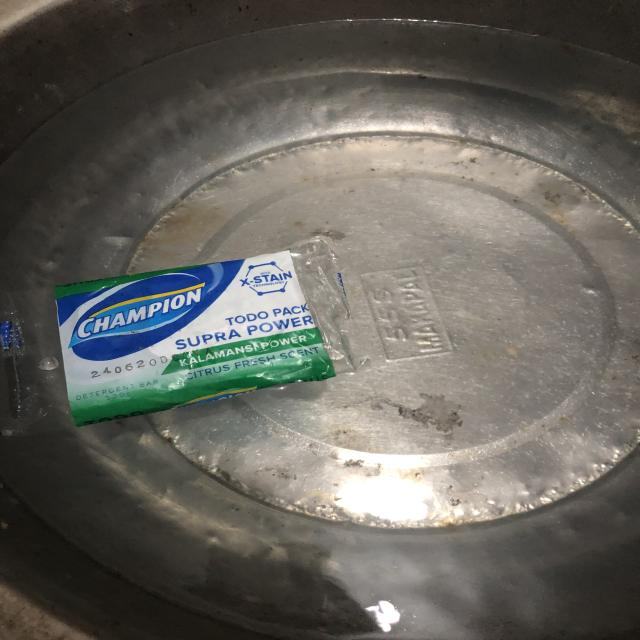Plastic Wrapper: (0, 232, 368, 448)
